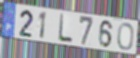1: (36, 10, 48, 40)
2: (17, 8, 36, 39)
6: (98, 20, 114, 49)
7: (79, 15, 94, 47)
L: (57, 13, 74, 44)
O: (116, 22, 135, 52)
